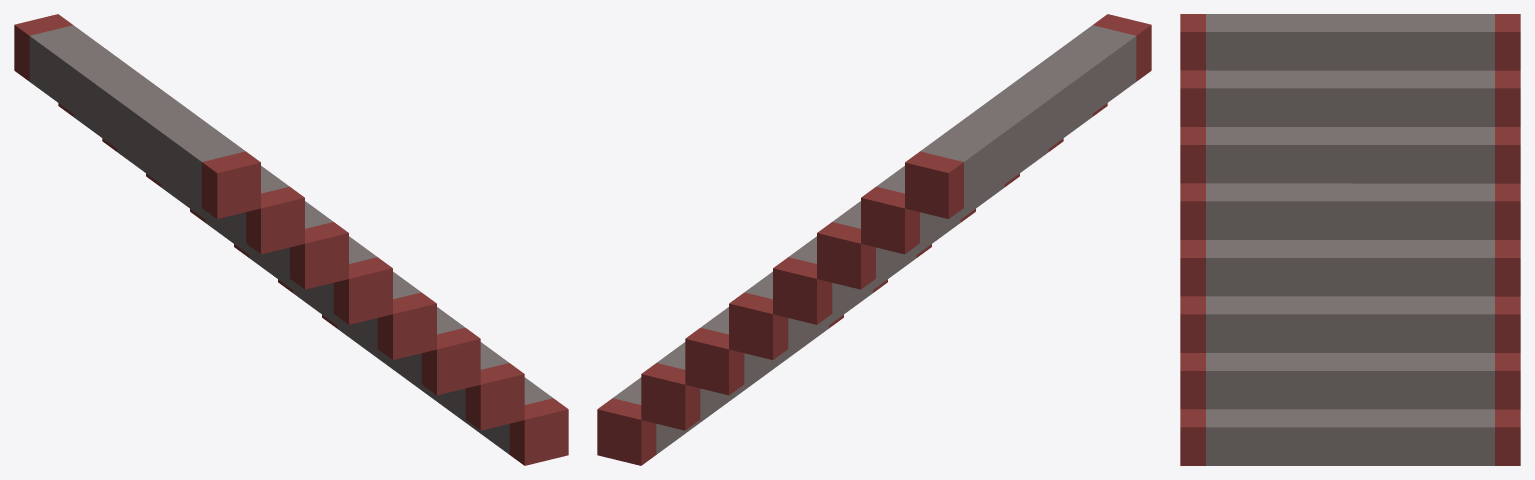
Rendered from Rock Stairs.fbx.
The picture shows the model from 3 angles, left to right: view 1: azimuth 30°, elevation 25°; view 2: azimuth 150°, elevation 25°; view 3: azimuth 270°, elevation 25°; orthographic projection. The views are drawn at different scales.
Visible parts, largest first — view 1: Cube; view 2: Cube; view 3: Cube.
Part boxes in pixels (x1,y1,x2,y2): Cube: (14, 14, 568, 465); Cube: (597, 14, 1151, 465); Cube: (1180, 14, 1520, 465).
Size of the model in its own units: 800 by 800 by 800.
